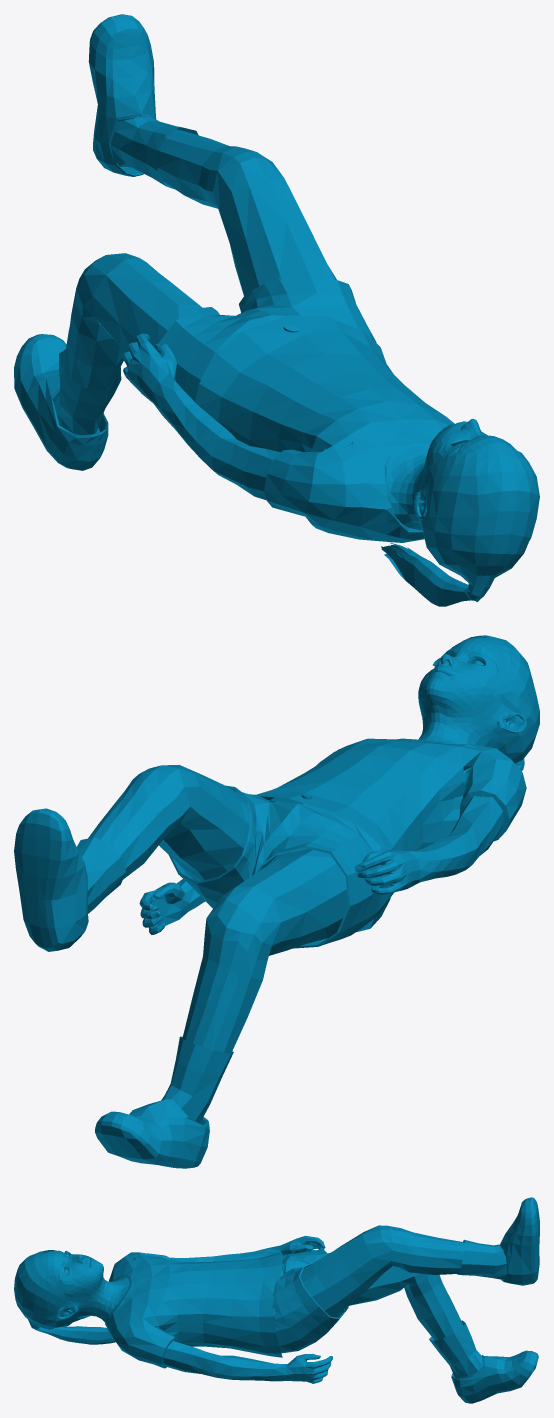
Rendered from child.obj.
3 renders of one model, top to bottom at view 1: azimuth 30°, elevation 25°; view 2: azimuth 150°, elevation 25°; view 3: azimuth 270°, elevation 25°, orthographic. The views are drawn at different scales.
Visible parts, largest first — view 1: 251-BP_WalkerGirl1_v2_C_2147469947; view 2: 251-BP_WalkerGirl1_v2_C_2147469947; view 3: 251-BP_WalkerGirl1_v2_C_2147469947.
Boxes of the visible parts, x1=… form: 251-BP_WalkerGirl1_v2_C_2147469947: x1=14, y1=14, x2=539, y2=606; 251-BP_WalkerGirl1_v2_C_2147469947: x1=14, y1=635, x2=539, y2=1168; 251-BP_WalkerGirl1_v2_C_2147469947: x1=14, y1=1197, x2=539, y2=1403.
Bounding box in the file's own units: 35.83 × 50.02 × 104.
